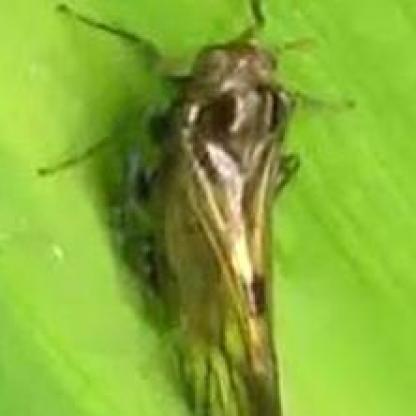brown-planthopper: (149, 27, 286, 416)
